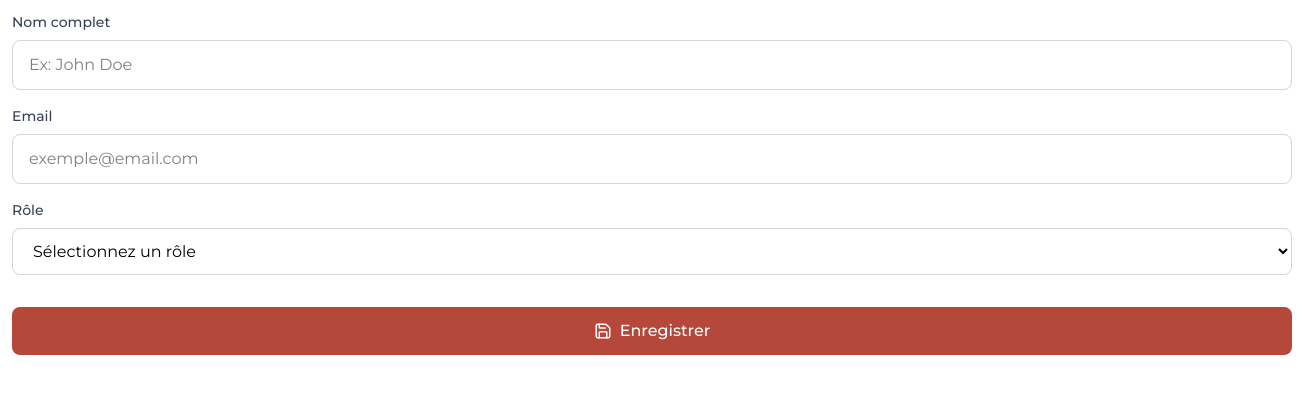
Scenario: UserForm - RHF + Yup validation › affiche une erreur si email invalide
In the field with placeholder "Ex: John Doe": (652, 65) [12,40,1292,90], type "Alice Doe"
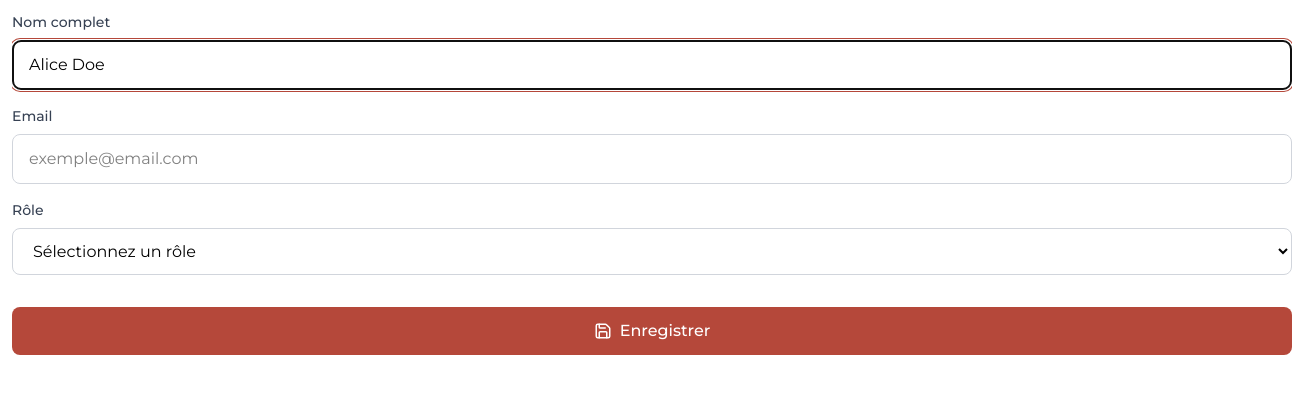
In the field with placeholder "exemple@email.com": (652, 159) [12,134,1292,184], type "not-an-email"
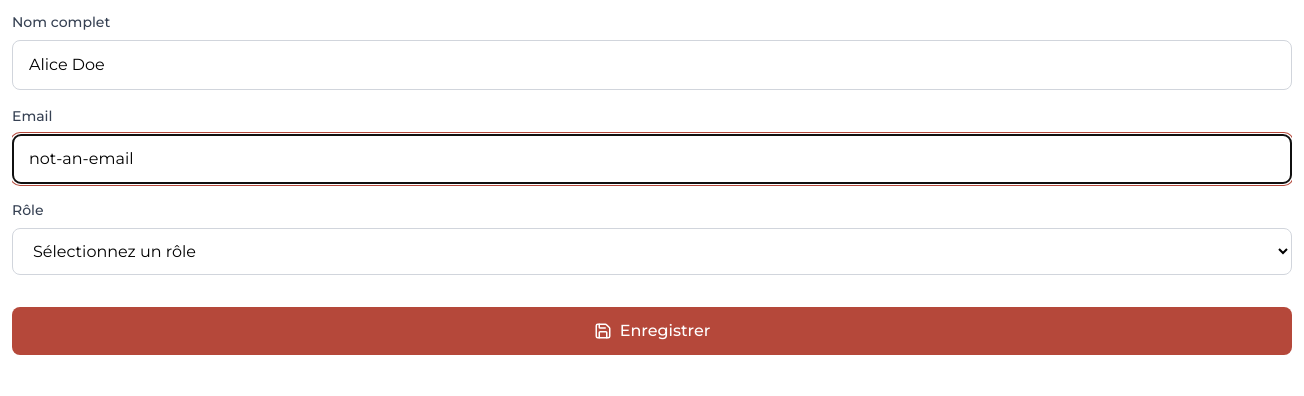
Select "User" in the dropdown: (652, 252) [12,228,1292,275]
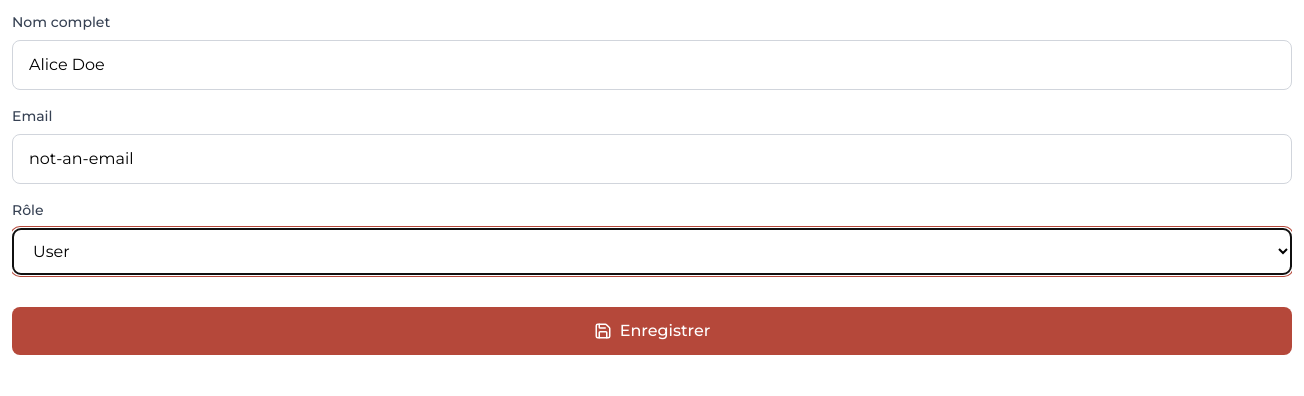
Click the button "Enregistrer": (652, 331) [12,307,1292,355]
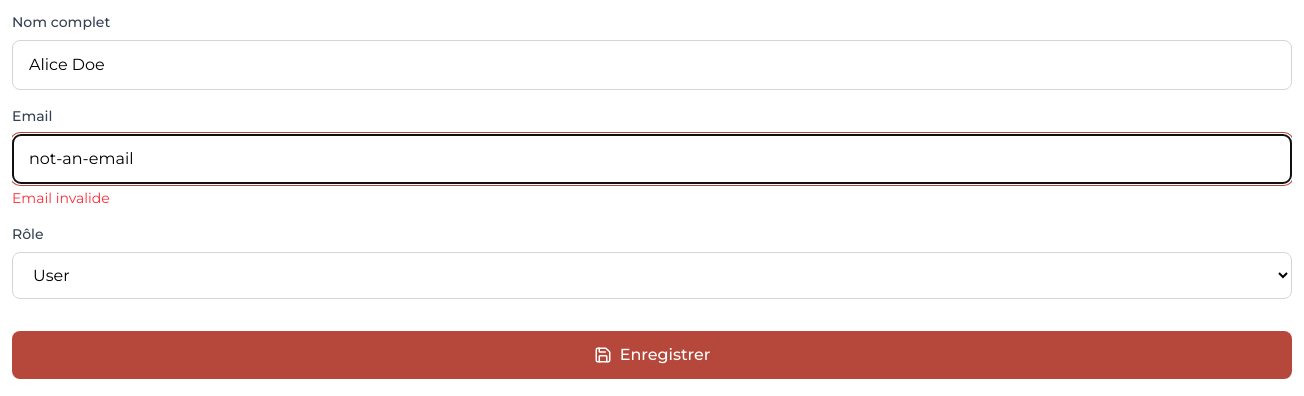
Check: the text "Email invalide" is shown, box [12,189,110,207]
